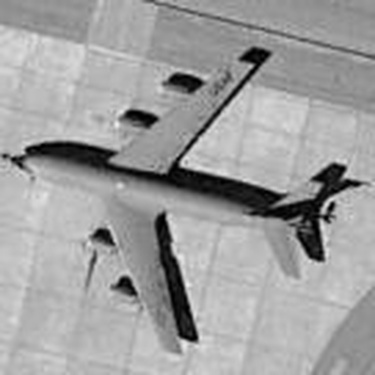airplane: (2, 32, 365, 362)
